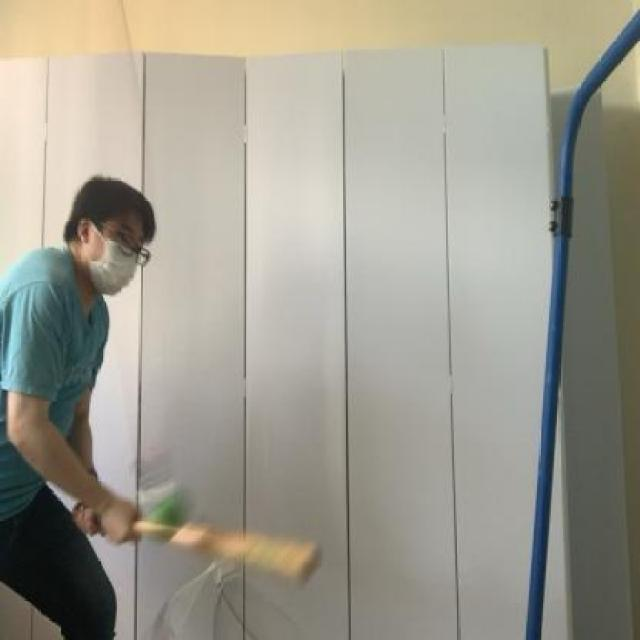baseball: (144, 486, 193, 545)
